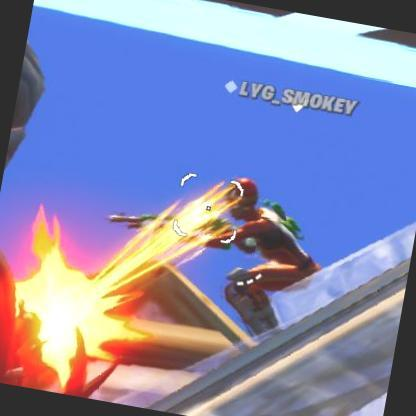person: (205, 181, 304, 302)
